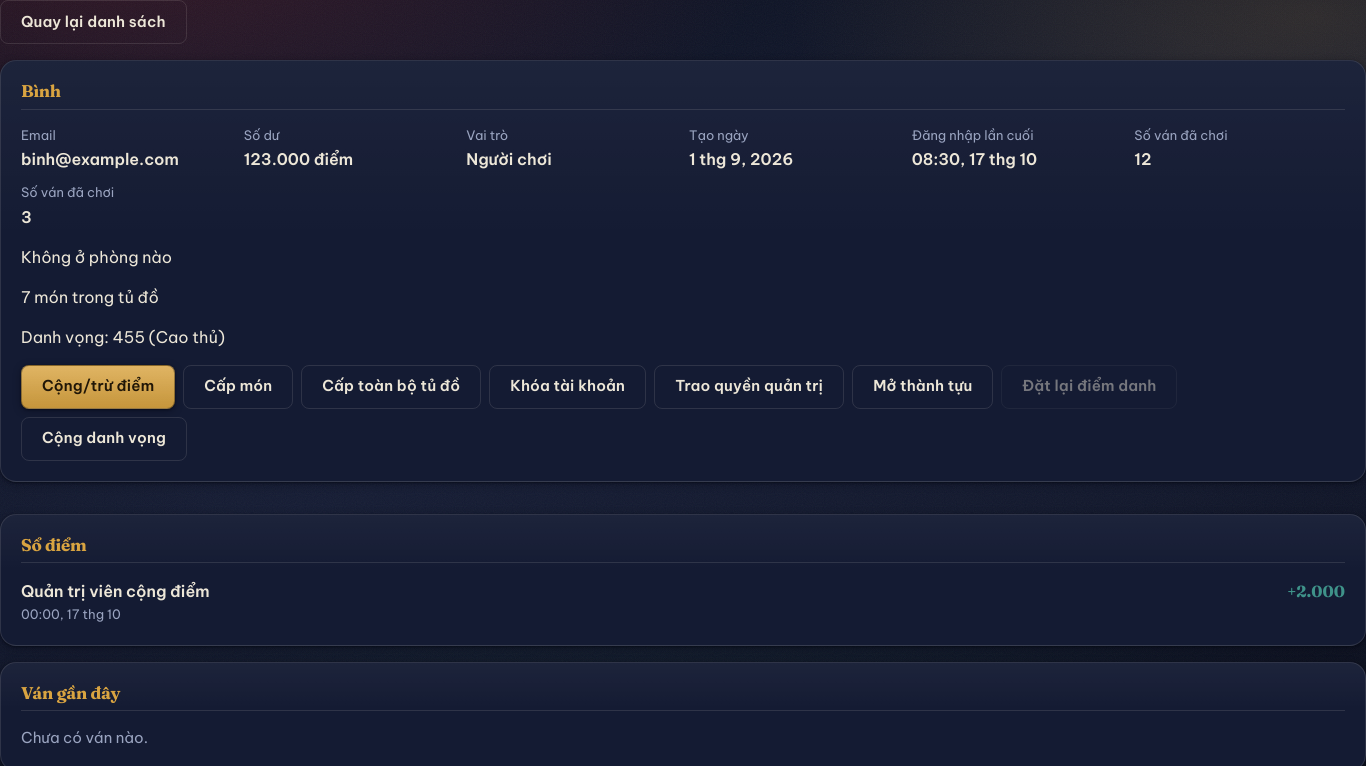
it: PlayerDetail › grants one item by id
Expected: the text "binh@example.com" is shown, x1=21 y1=149 x2=179 y2=169
Step 1. Click the button "Cấp món" → click(238, 386), box x1=183 y1=364 x2=293 y2=408
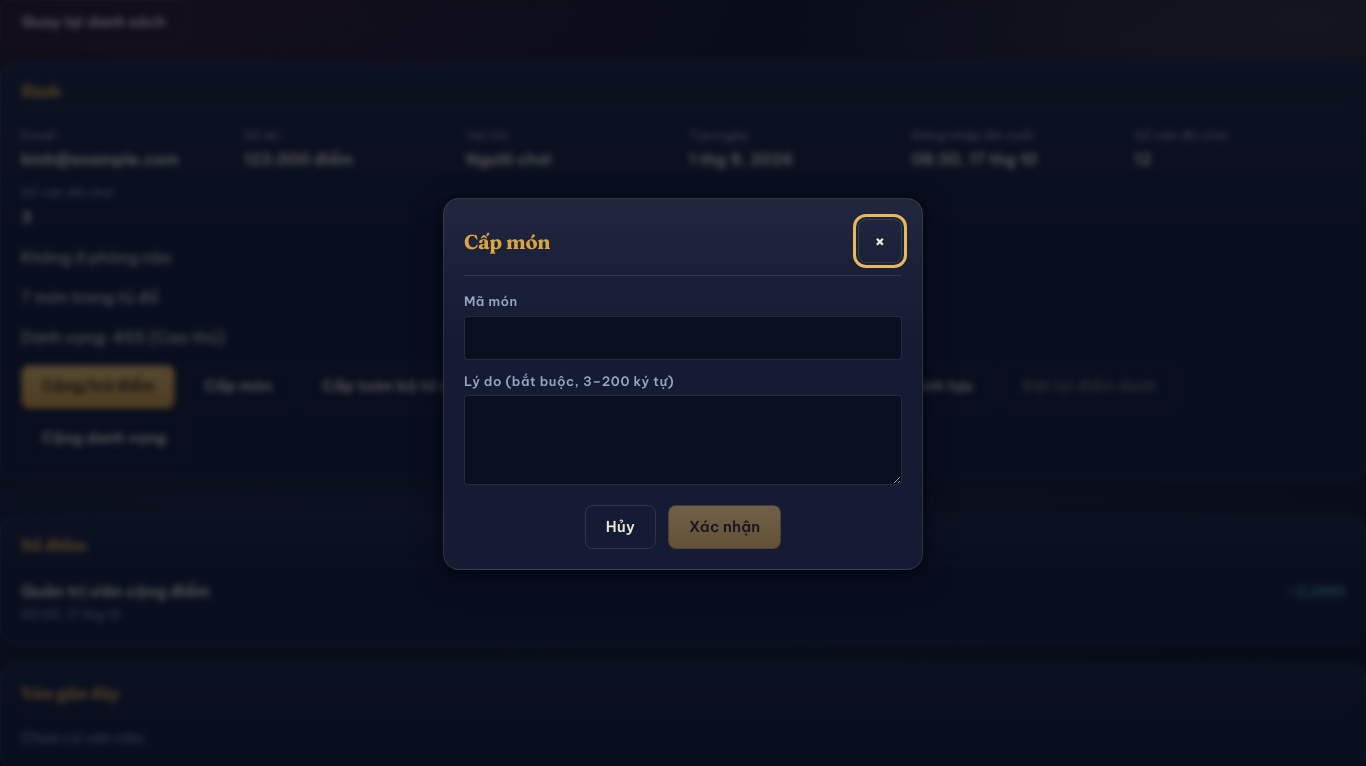
Step 2. Type "hair.bob" into the field labelled "Mã món" → (683, 338), box x1=464 y1=316 x2=902 y2=360
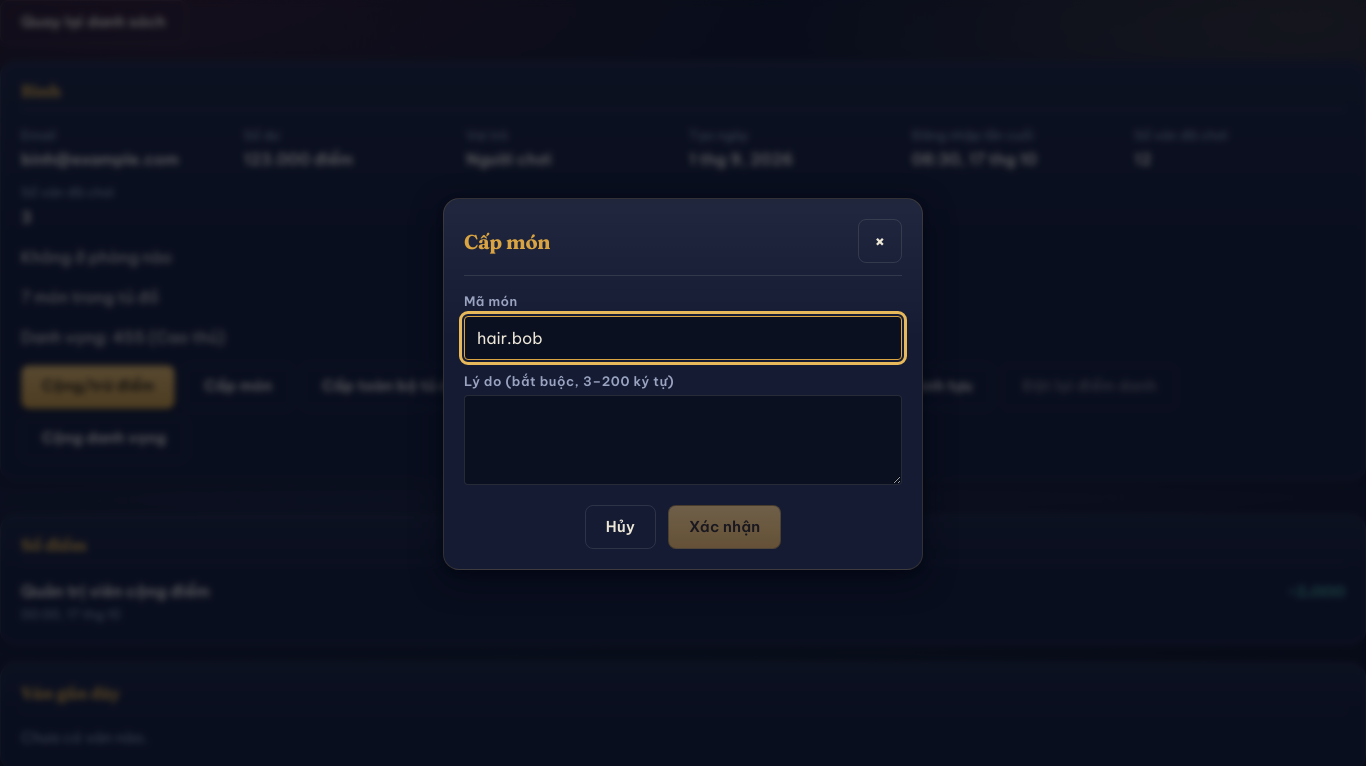
Step 3. Type "quà" into the text box labelled "Lý do (bắt buộc, 3–200 ký tự)" → (683, 440), box x1=464 y1=395 x2=902 y2=485
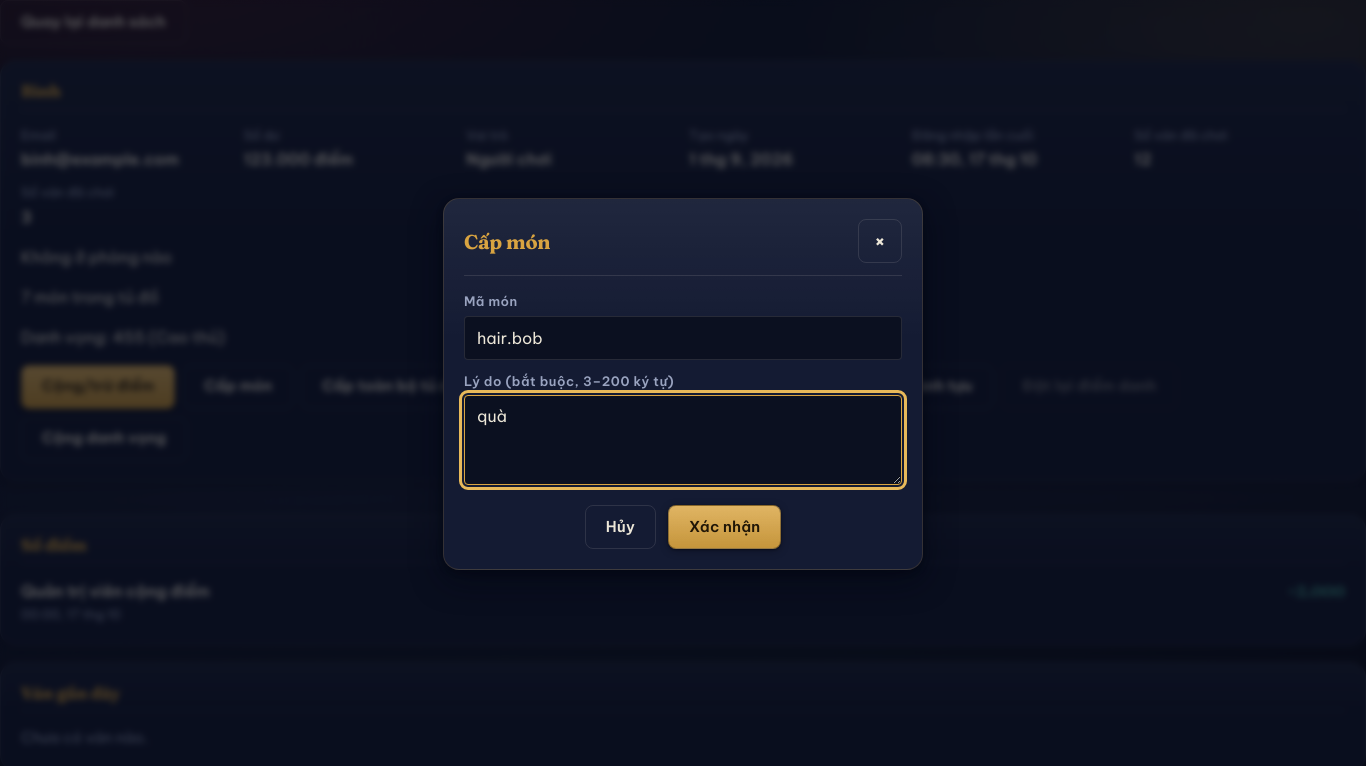
Step 4. Click the button "Xác nhận" → click(725, 527), box x1=668 y1=505 x2=781 y2=549
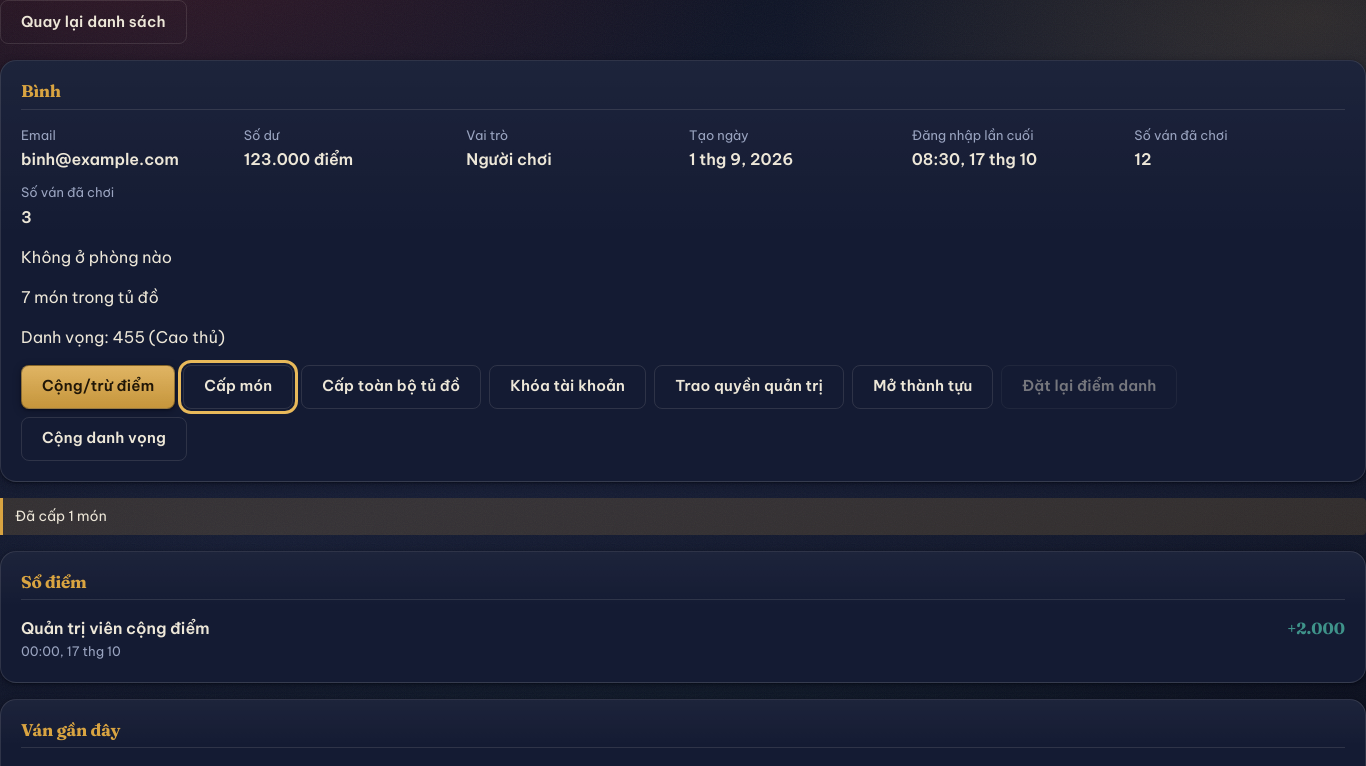
Expected: the text "Đã cấp 1 món" is shown, x1=0 y1=498 x2=1365 y2=534
